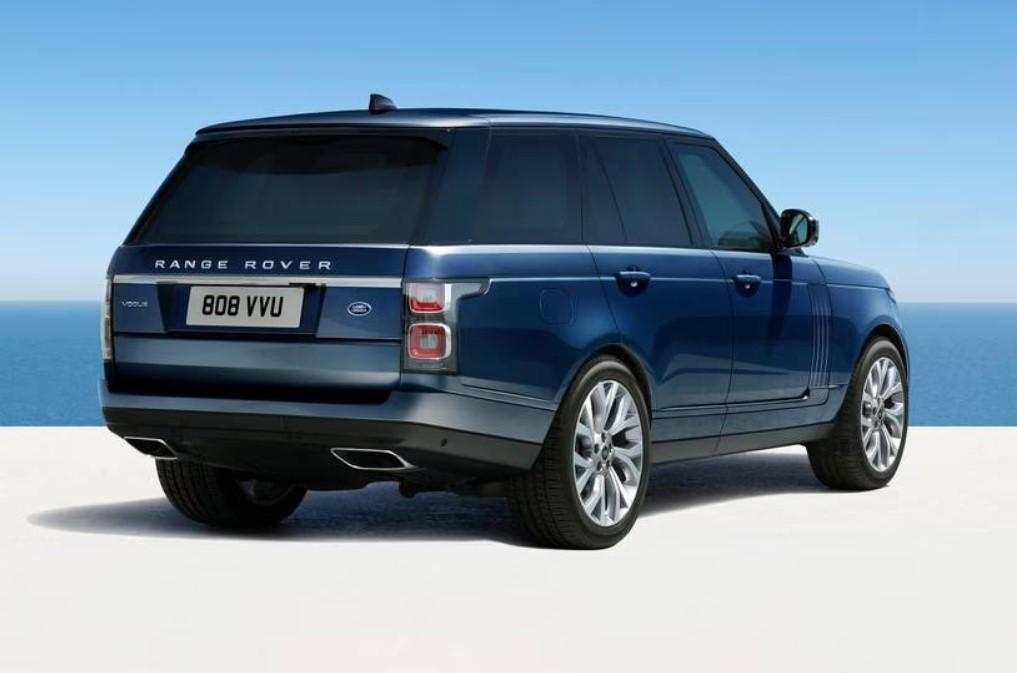range rover: (140, 251, 342, 289)
